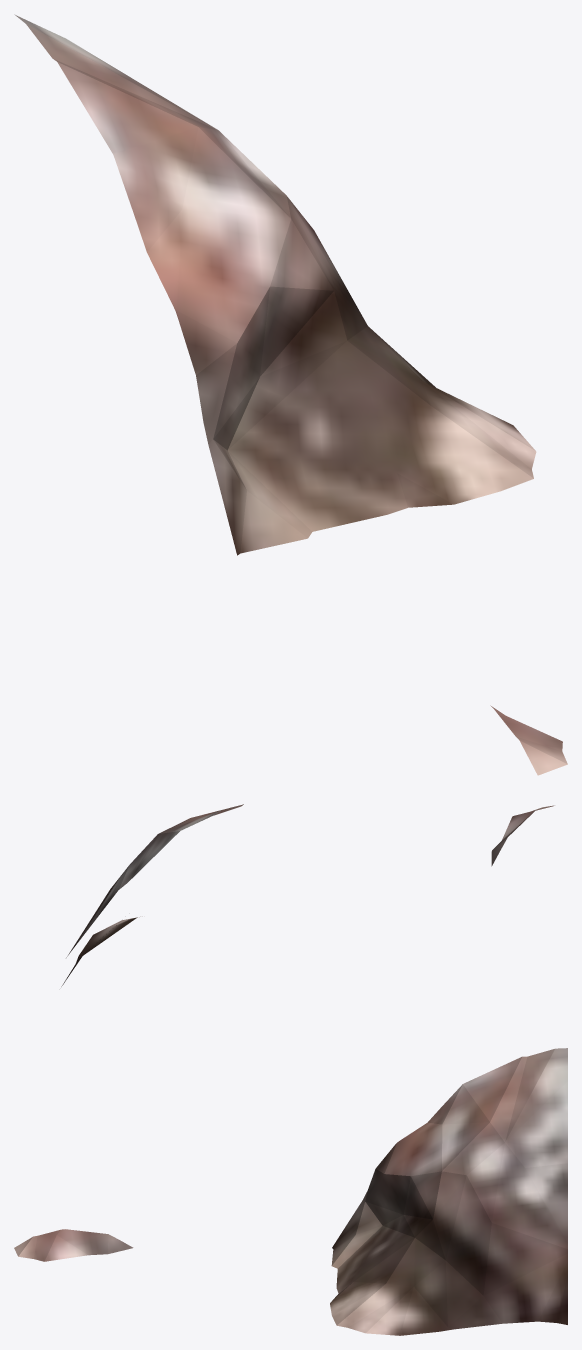
3 renders of one model, top to bottom at view 1: azimuth 30°, elevation 25°; view 2: azimuth 150°, elevation 25°; view 3: azimuth 270°, elevation 25°, orthographic. The views are drawn at different scales.
Size of the model in its own units: 0.1169 by 0.124 by 0.3114.
Materials: 1 (1 with a texture image).
